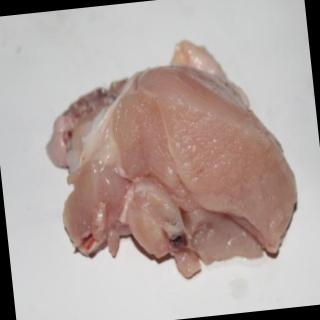Ayam: (43, 36, 303, 277)
